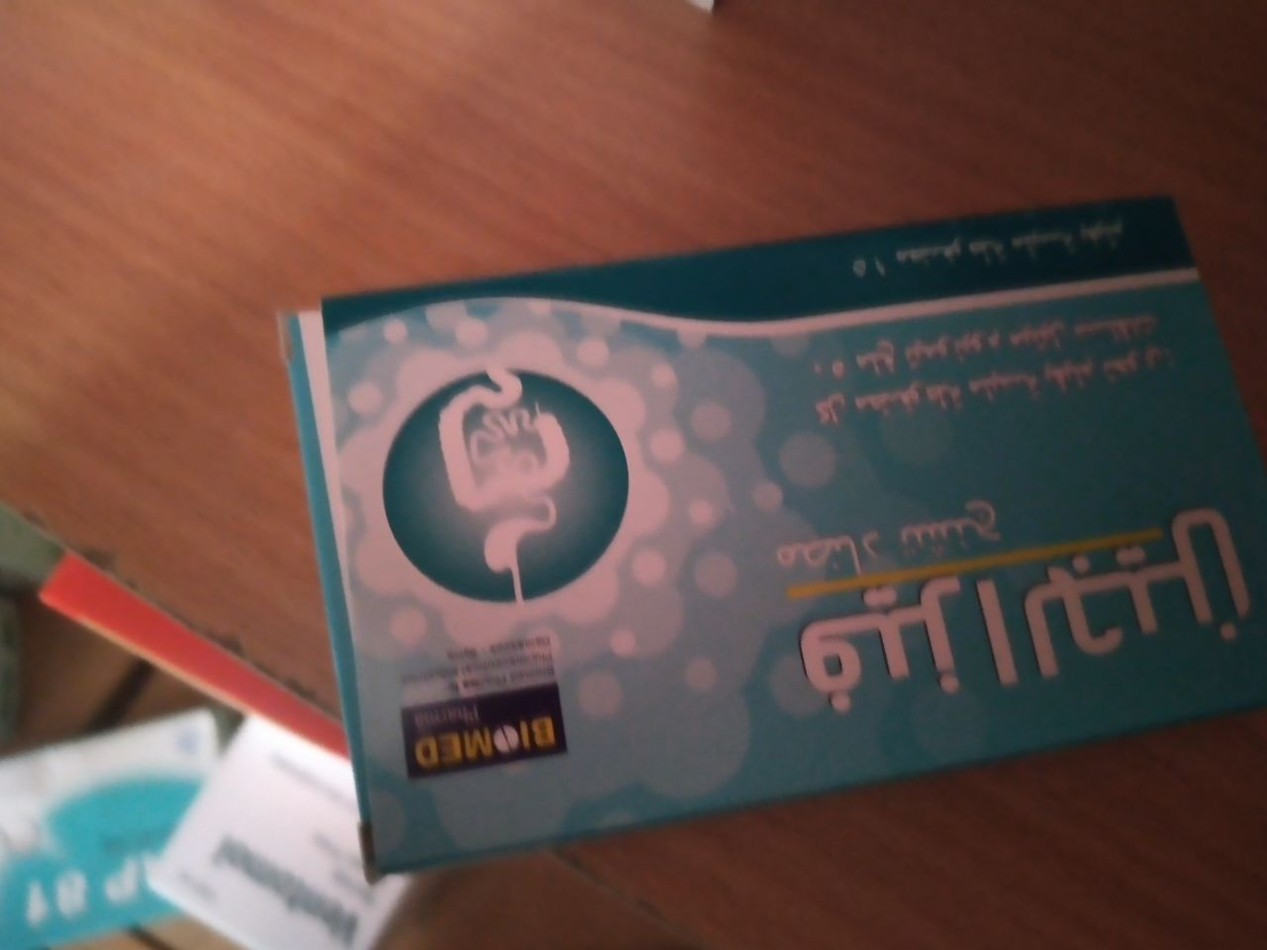Medicine: (287, 181, 1267, 908)
